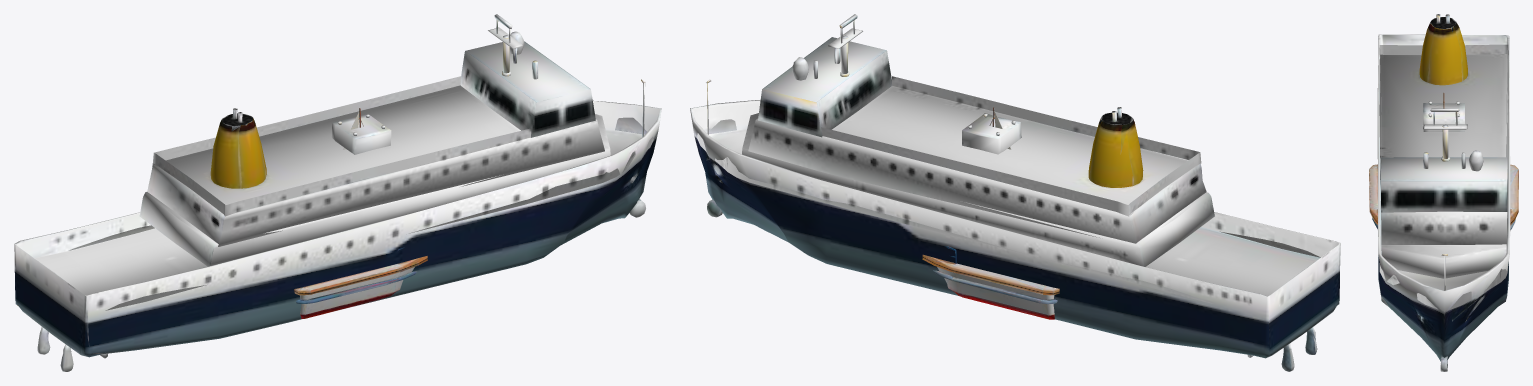
Rendered from bateaux.glb.
3 views of the same model, side by side, from view 1: azimuth 30°, elevation 25°; view 2: azimuth 150°, elevation 25°; view 3: azimuth 270°, elevation 25° (orthographic). The views are drawn at different scales.
Visible parts, largest first — view 1: boat_ferry, boat_navette; view 2: boat_ferry, boat_navette; view 3: boat_ferry, boat_navette.
Part boxes in pixels (x1,y1,x2,y2): boat_ferry: (14,14,661,371); boat_navette: (294,247,427,318); boat_ferry: (690,14,1340,371); boat_navette: (922,246,1059,319); boat_ferry: (1377,14,1510,371); boat_navette: (1369,164,1518,230).
Size of the model in its own units: 1 by 0.3641 by 0.2371.
3 materials, 3 textured.
